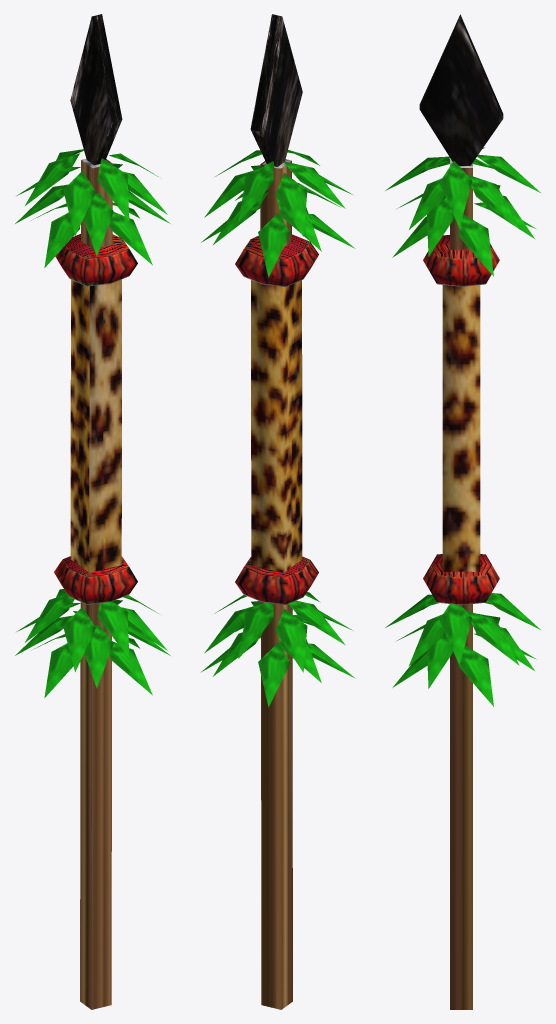
The model's file is maya_lanca_hero.dae.
3 views of the same model, side by side, from view 1: azimuth 30°, elevation 25°; view 2: azimuth 150°, elevation 25°; view 3: azimuth 270°, elevation 25° (orthographic).
Visible parts, largest first — view 1: maya_lanca_hero; view 2: maya_lanca_hero; view 3: maya_lanca_hero.
Part boxes in pixels (x1,y1,x2,y2): maya_lanca_hero: [15, 14, 170, 1009]; maya_lanca_hero: [201, 14, 355, 1009]; maya_lanca_hero: [385, 14, 540, 1009].
Size of the model in its own units: 0.699 by 0.6984 by 4.84.
Materials: 1 (1 with a texture image).
